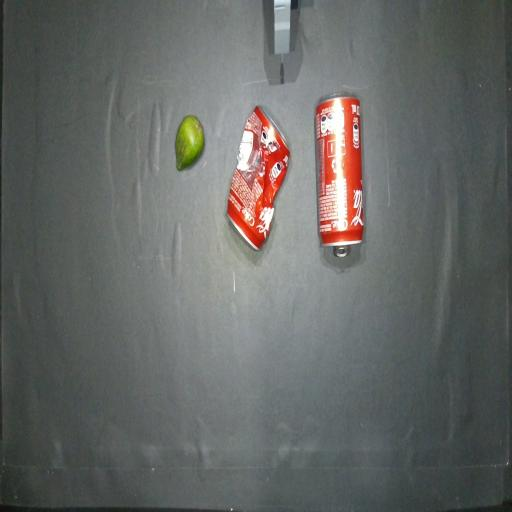higo: (175, 115, 204, 170)
lata: (315, 94, 364, 256)
lata_defectuoso: (227, 106, 290, 249)
